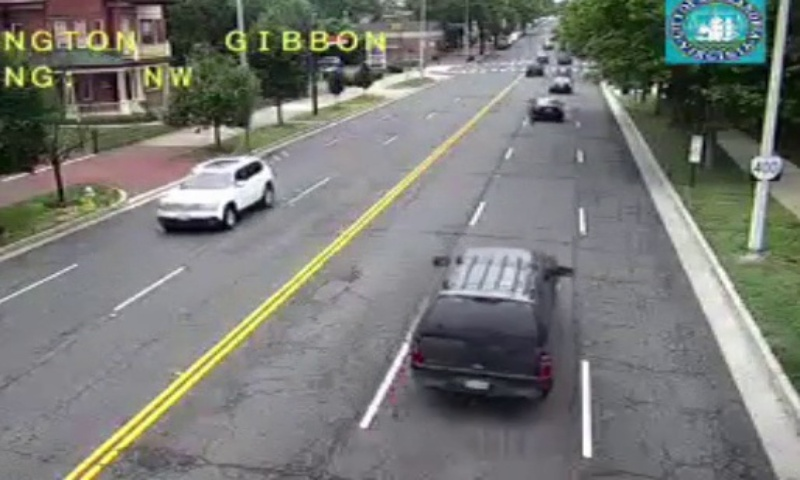car: (410, 245, 552, 403), (526, 98, 563, 120)
